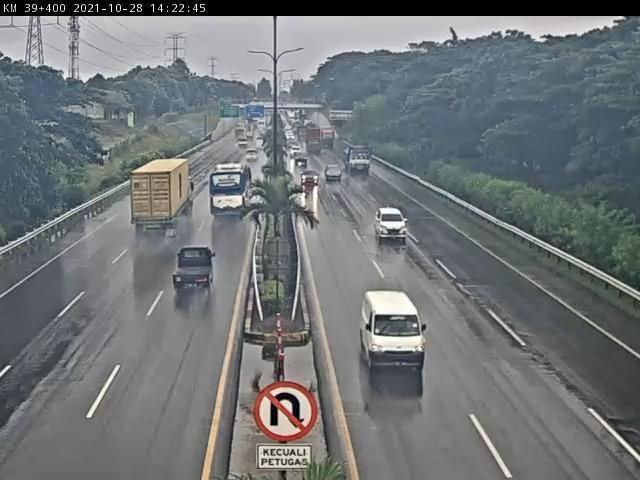bus: (208, 164, 255, 224)
truck: (132, 158, 196, 232), (344, 144, 375, 176)
